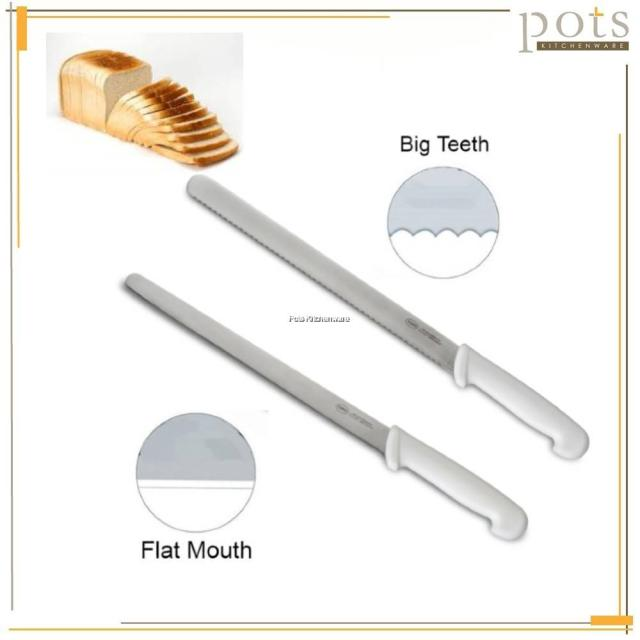Knife: (187, 175, 588, 459), (125, 273, 527, 540)
